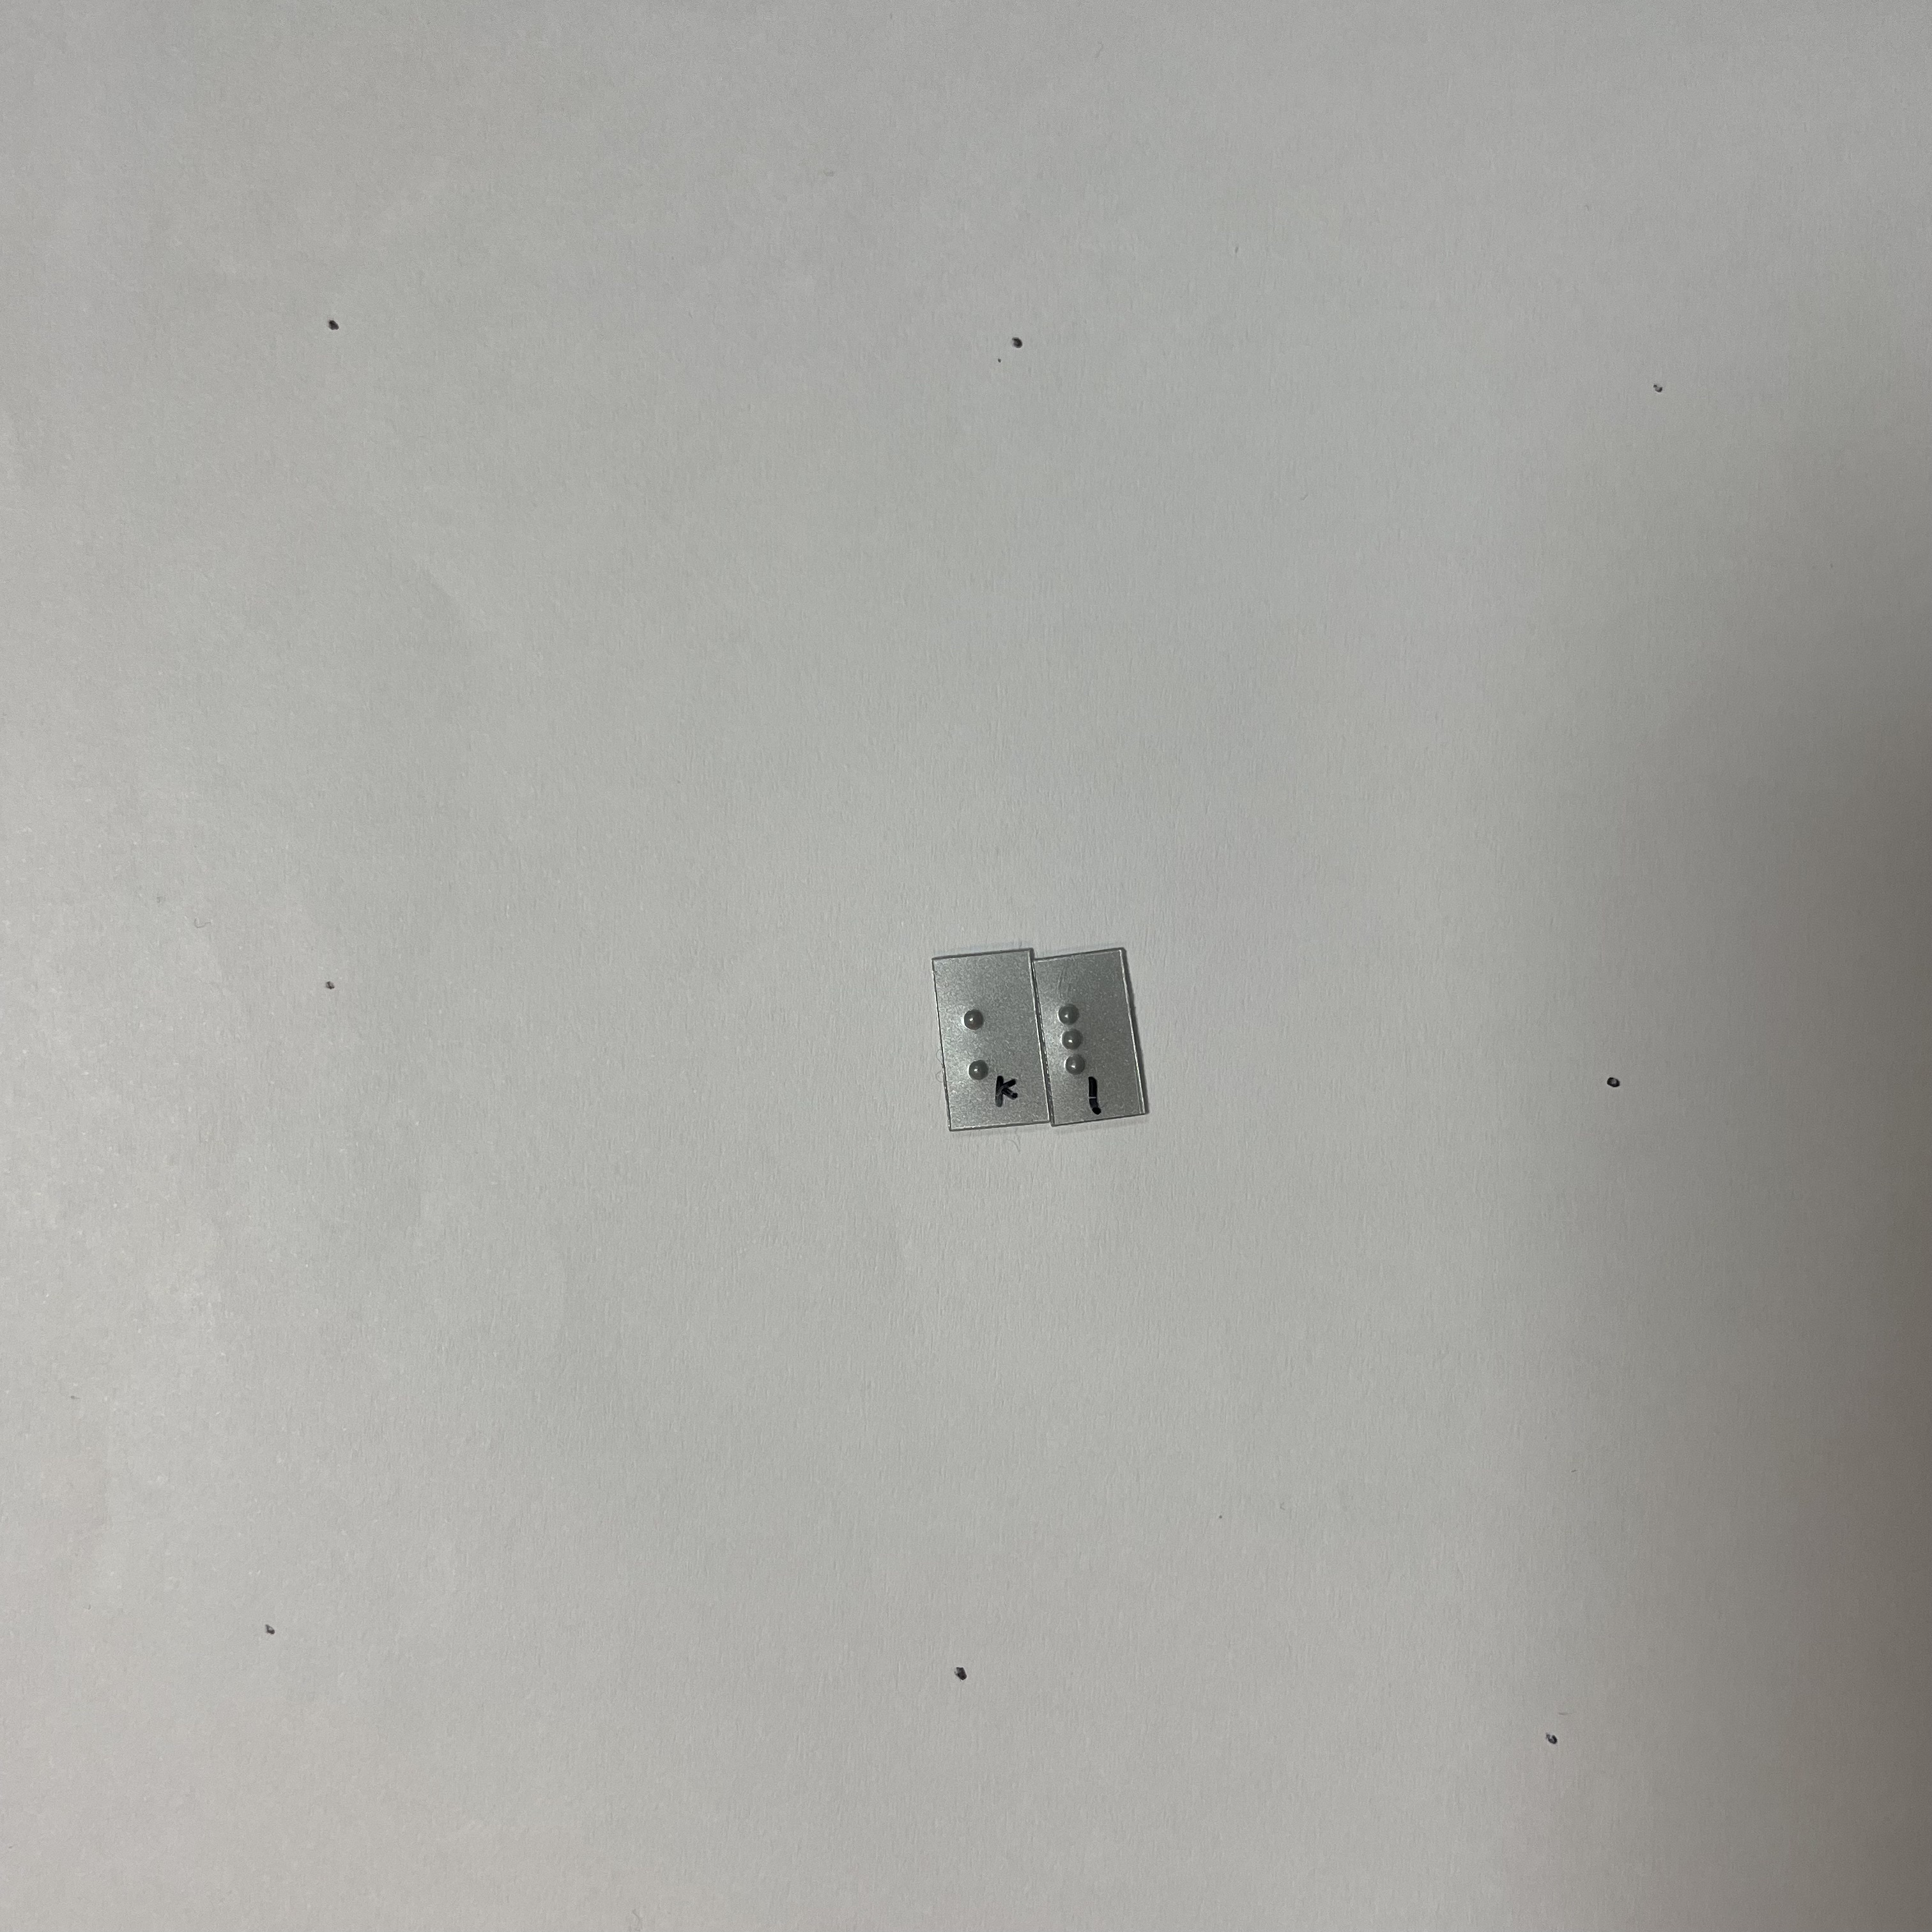k: (956, 1001, 1029, 1089)
l: (1053, 992, 1126, 1082)
